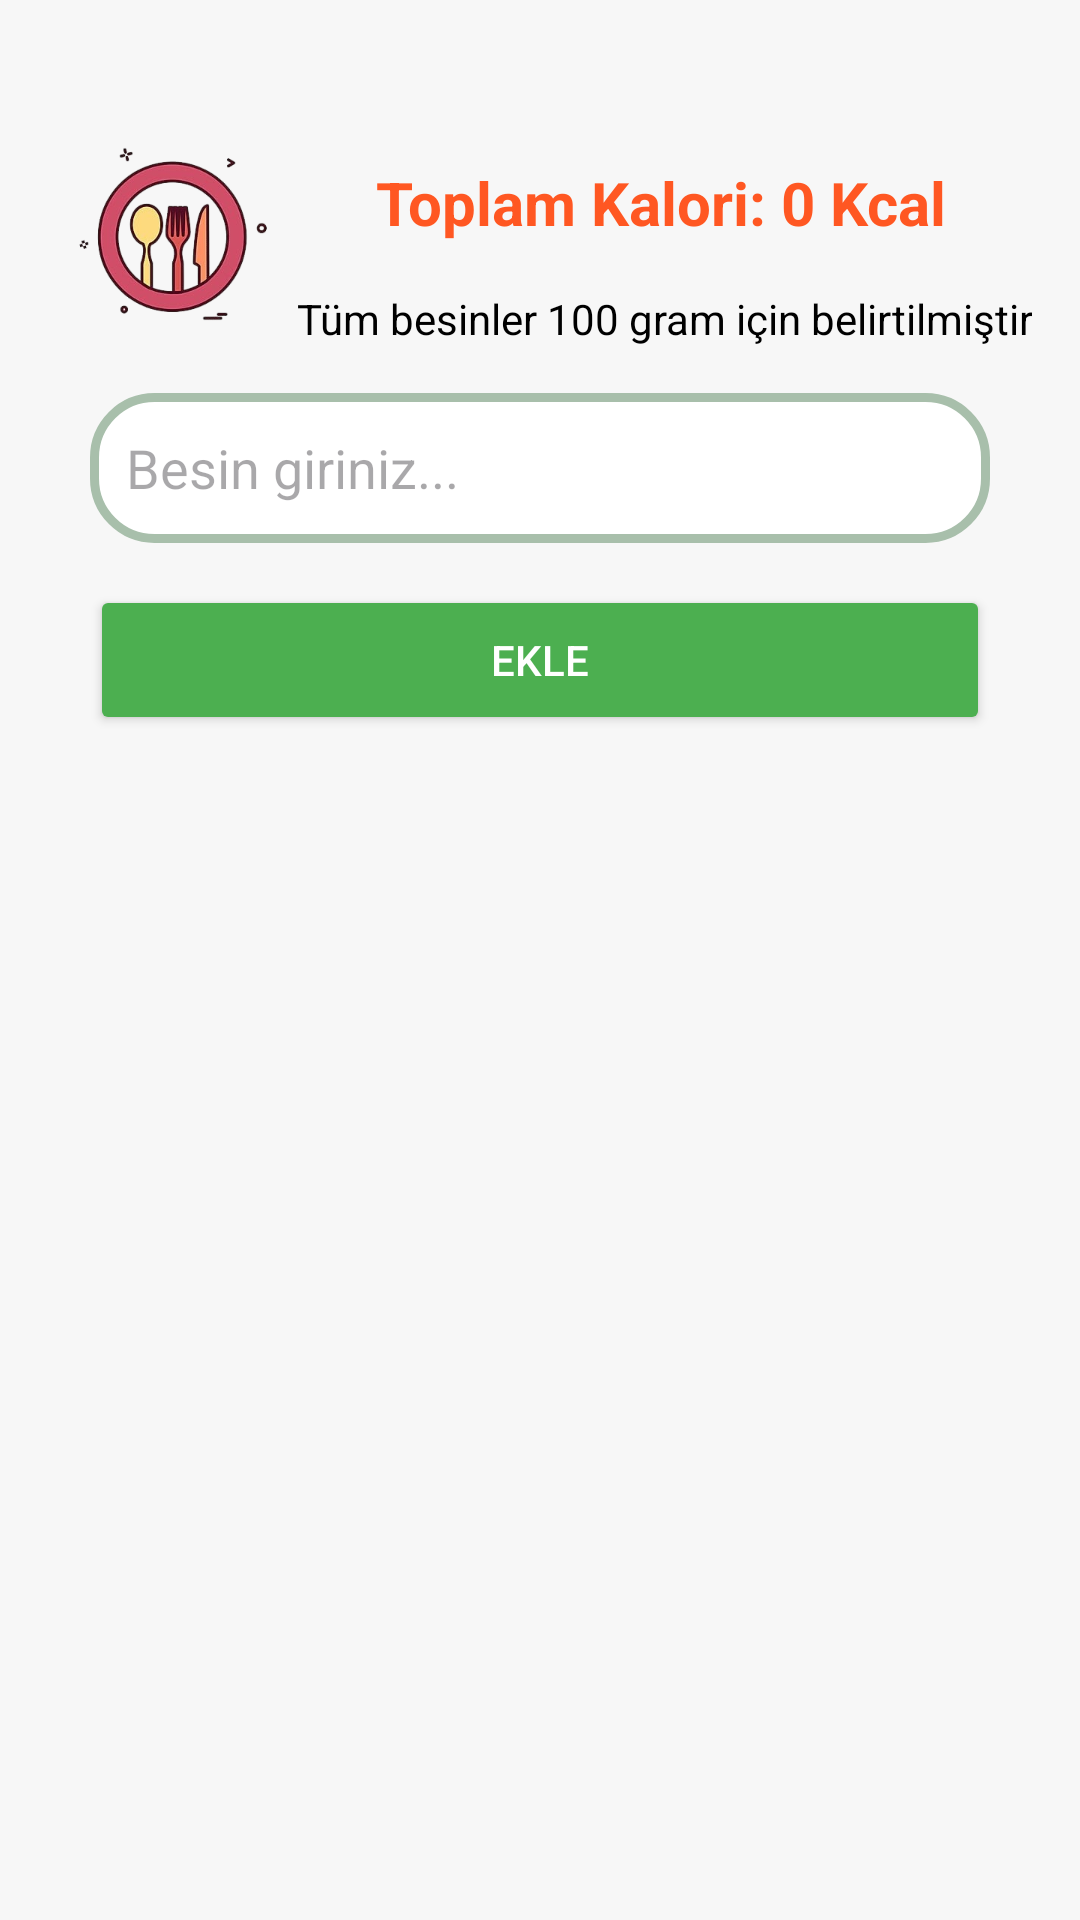

Where to tap for icons on this 1080px×1920px app screen, as (x=x, y=y):
Yemek ikonu: (x=173, y=234)
